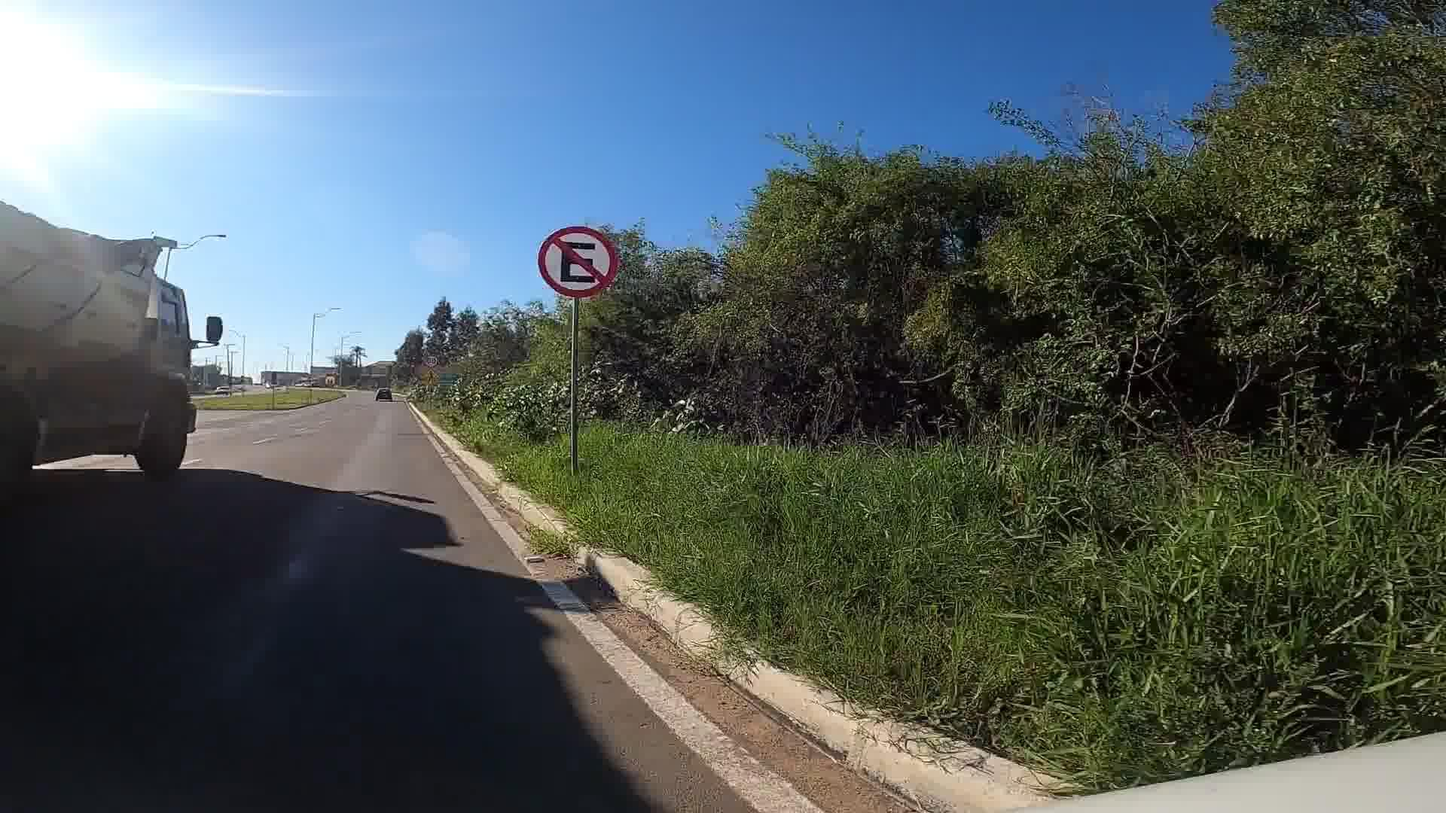R-6a: (535, 225, 621, 296)
